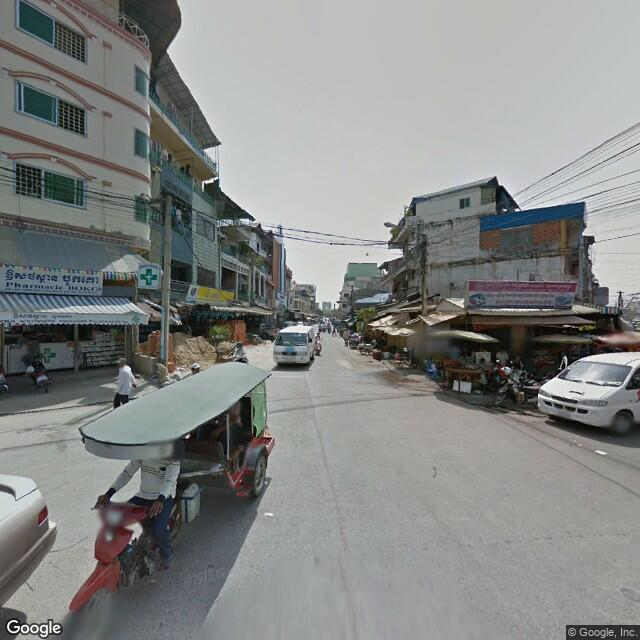litter: (578, 438, 613, 459), (259, 506, 276, 524)
